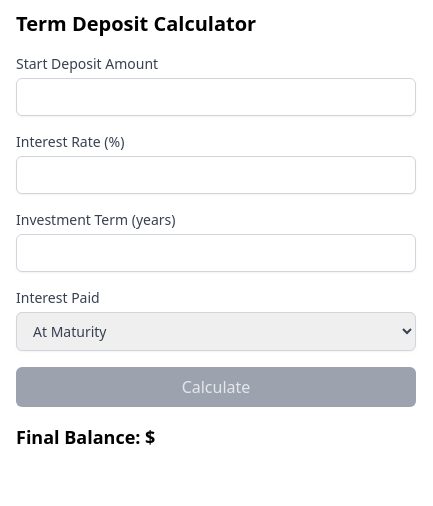
Test: App Component › show feedback to user
The image size is (433, 506).
Step 1. Type "1222w" into the field labelled "Start Deposit Amount" → {"x": 216, "y": 97}, box [16,78,416,116]
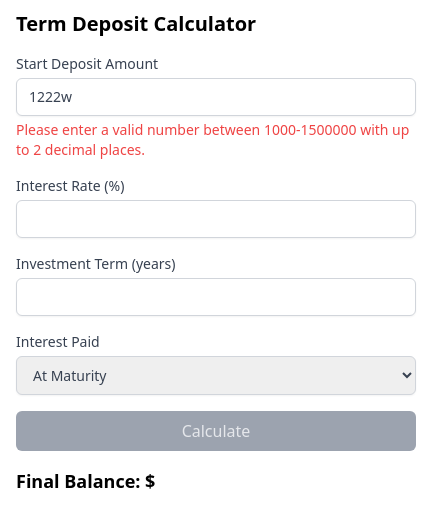
Expected: the text "Please enter a valid number" is shown, [16,120,409,159]
